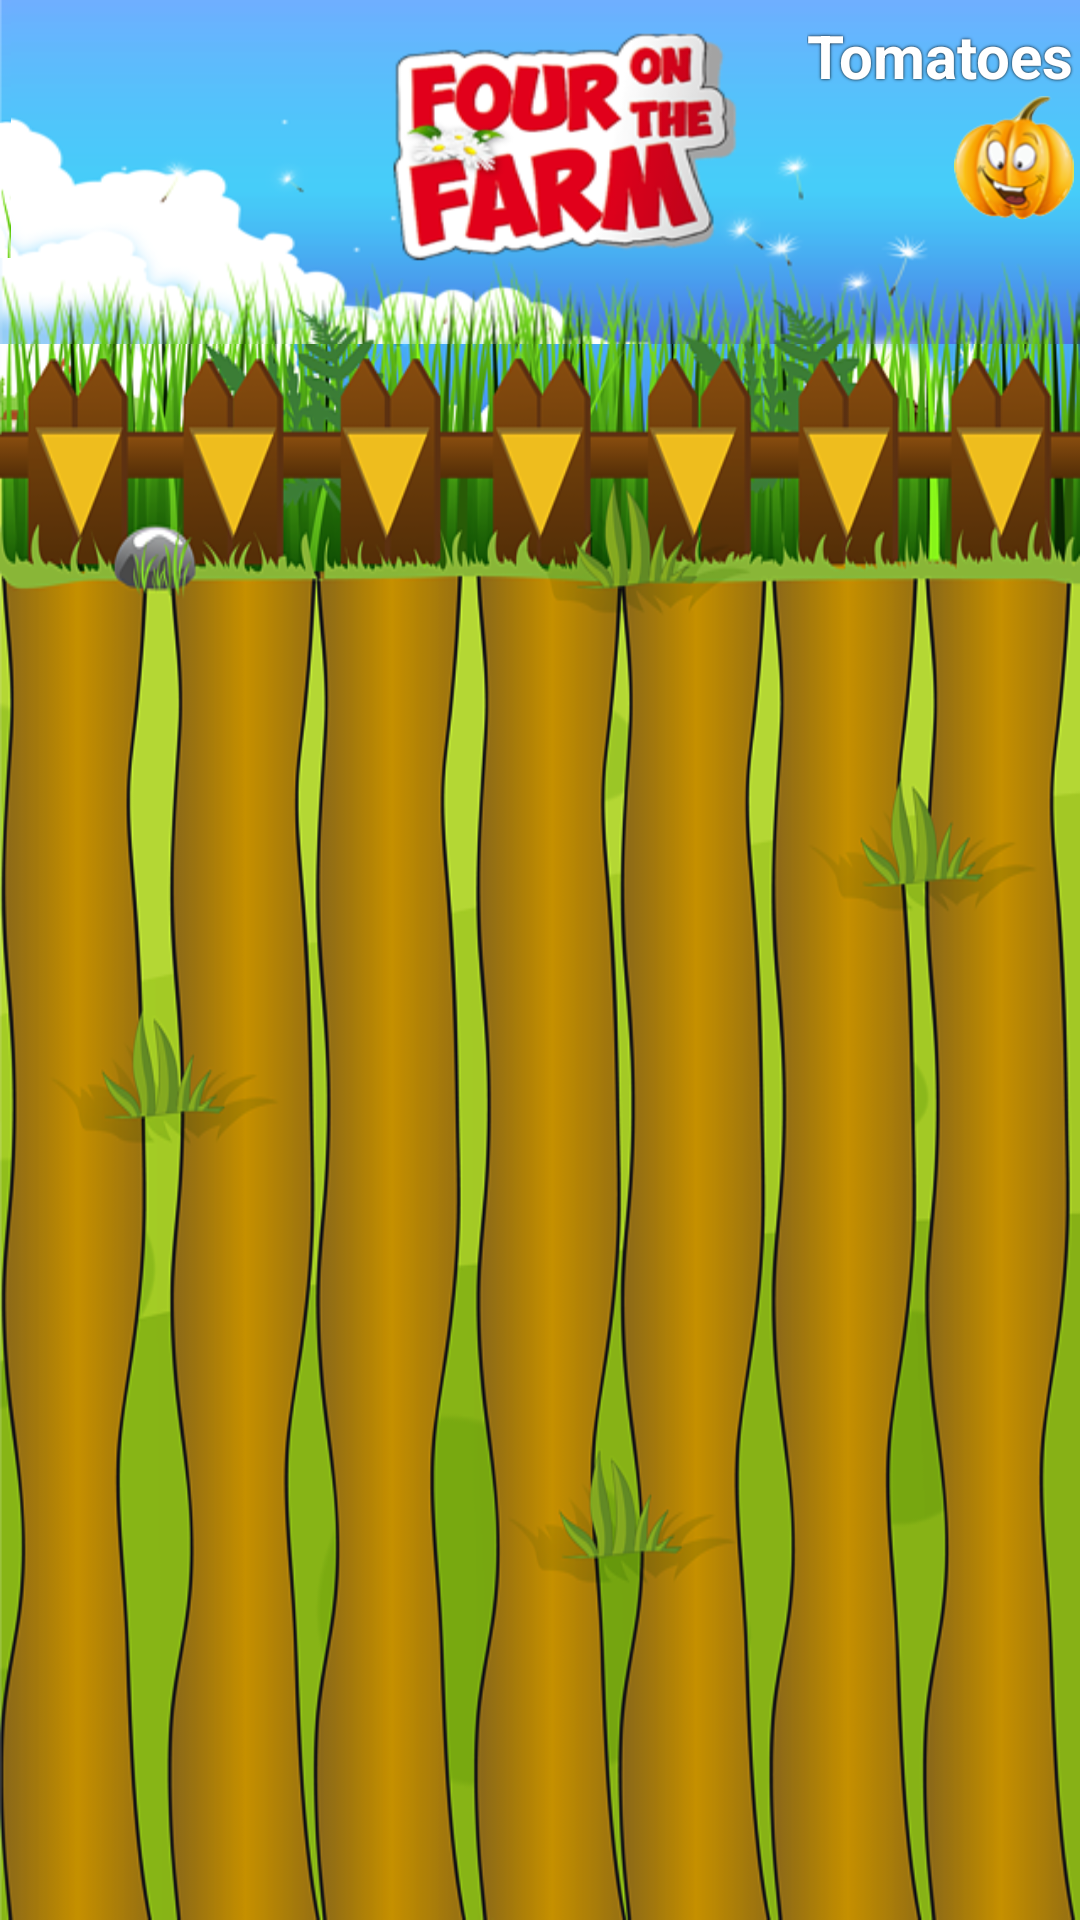

Icons on this 1080*1920 Android screen, each with its box as region(x1, y1, x2, y2):
pumpkin: region(954, 96, 1074, 219)
